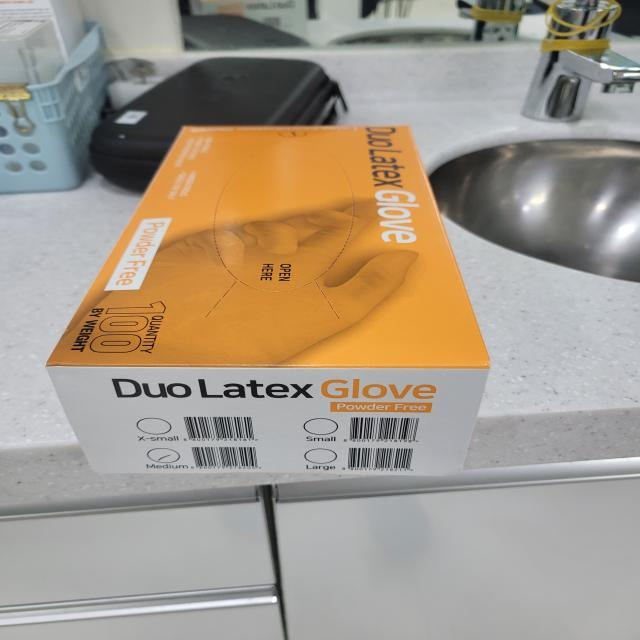glove: (38, 106, 529, 500)
